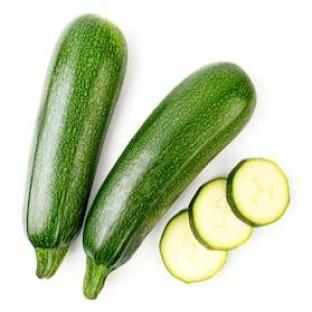Zucchini: (84, 64, 254, 298), (26, 15, 126, 277), (160, 210, 227, 283), (189, 178, 252, 249), (228, 159, 289, 226)
